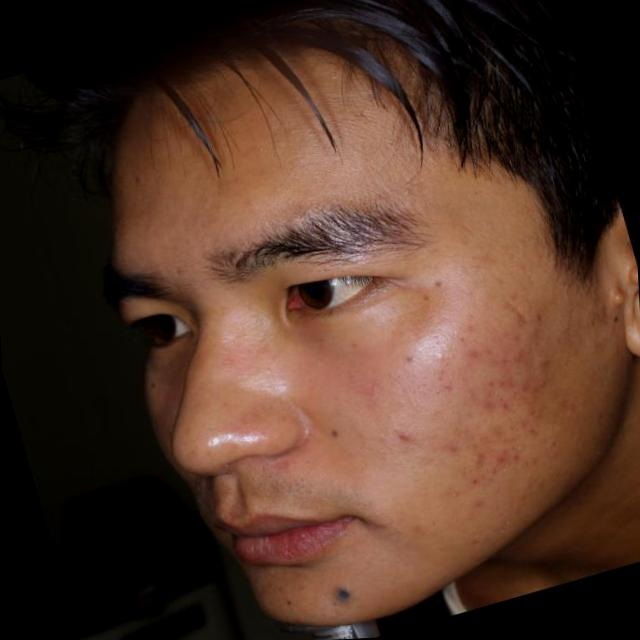acne: (504, 295, 552, 338), (438, 424, 483, 465), (383, 416, 427, 456), (474, 443, 518, 482), (476, 368, 522, 404), (498, 342, 540, 372), (452, 334, 485, 369), (488, 418, 516, 445)
